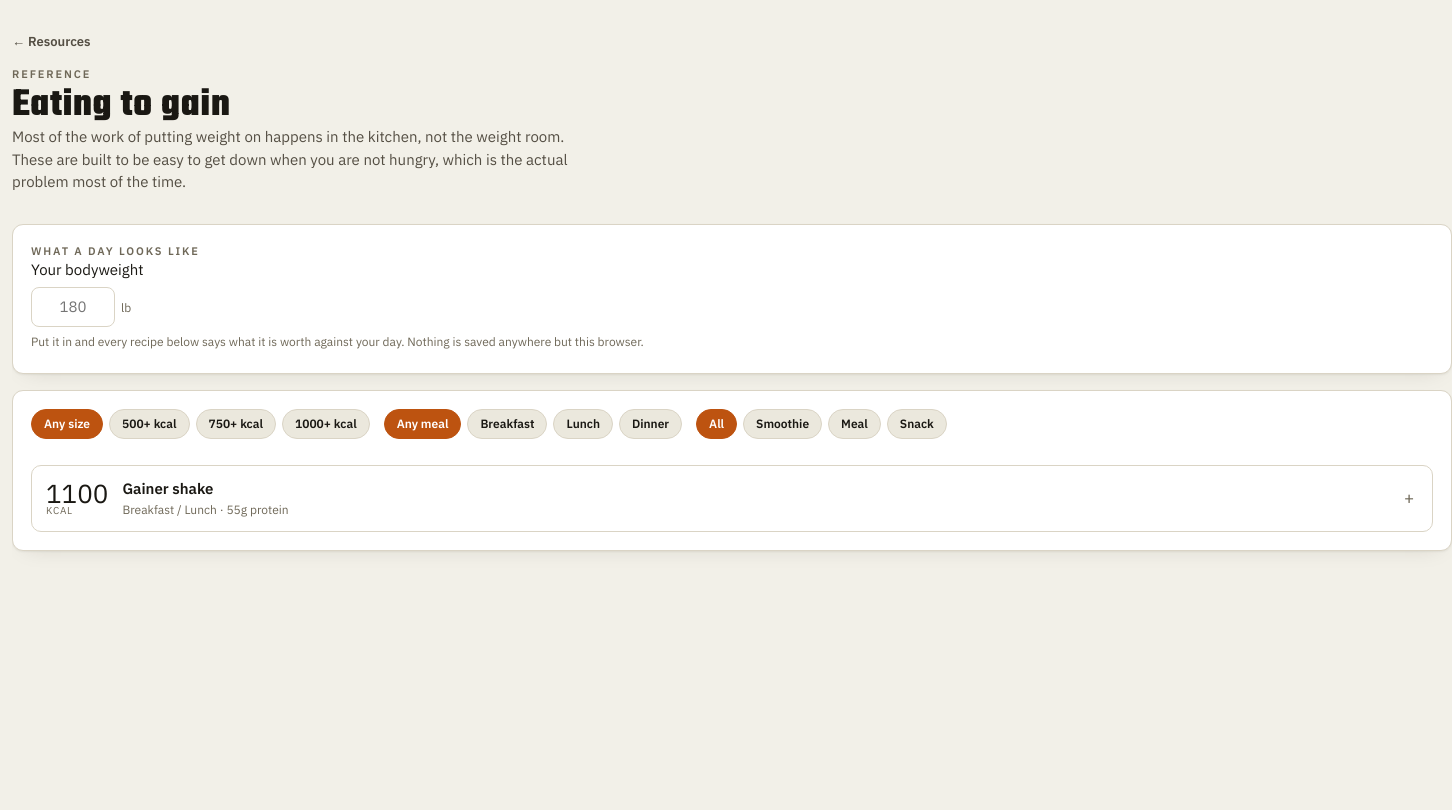
Test: a half-typed weight shows no target, and a finished one does
Type "1" into the field named "your bodyweight in pounds".
click(73, 307); type("1")  # box [31,286,115,327]
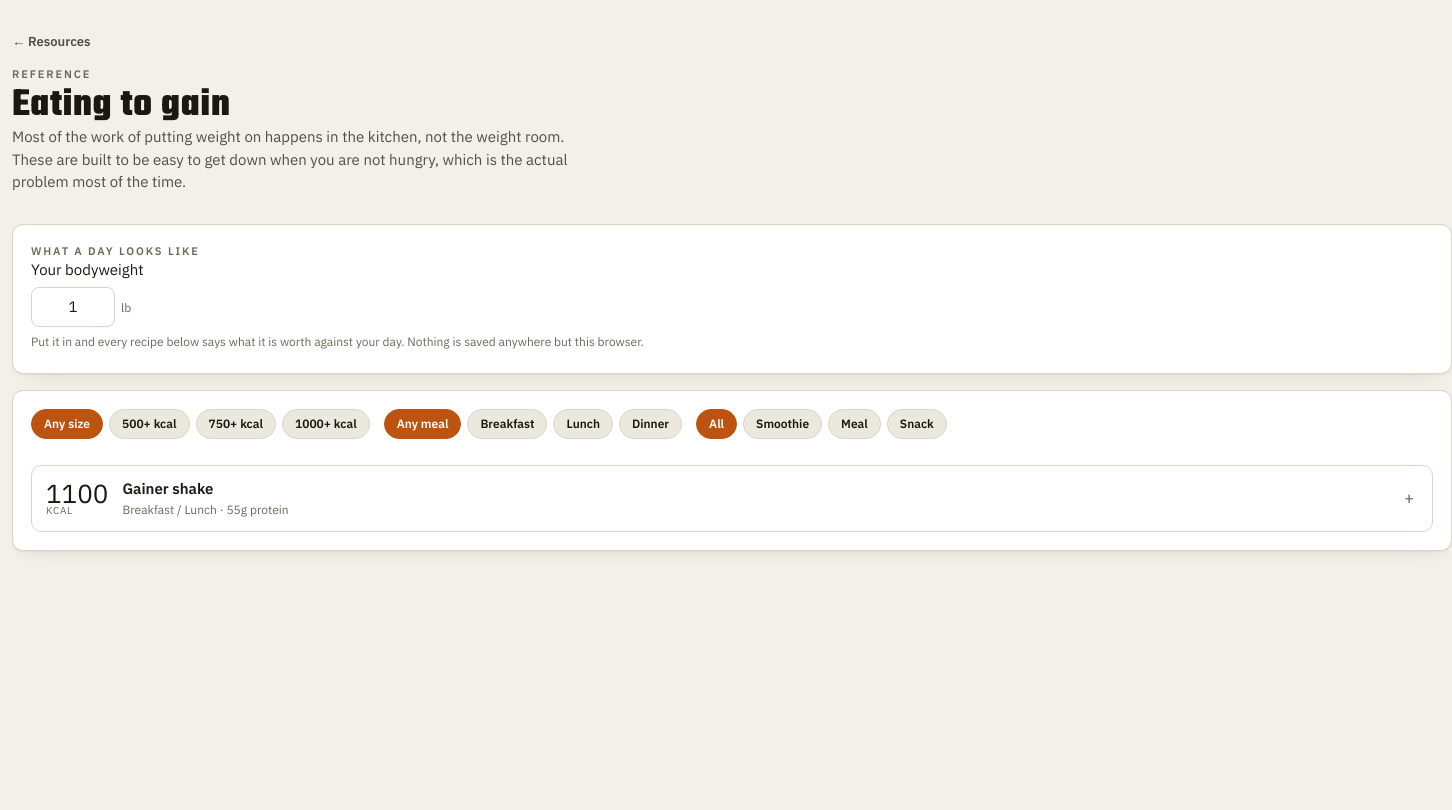
Replace the text in the field named "your bodyweight in pounds" with "186" at (73, 307), box [31,286,115,327]
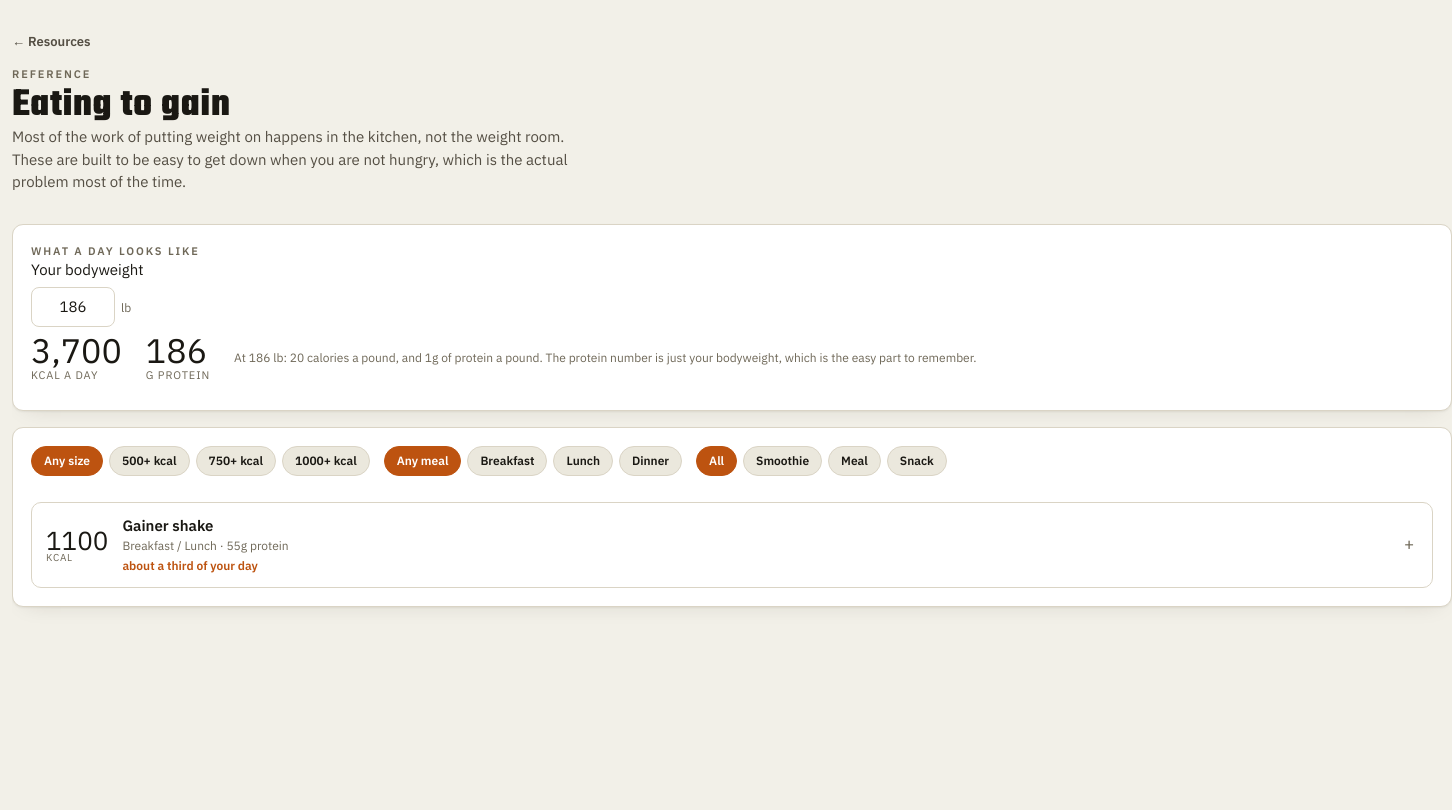
Expected: the element with class "nu-target" shows "3,700", [31,328,122,372]
Expected: the element with class "nu-target" shows "186", [146,328,207,372]
